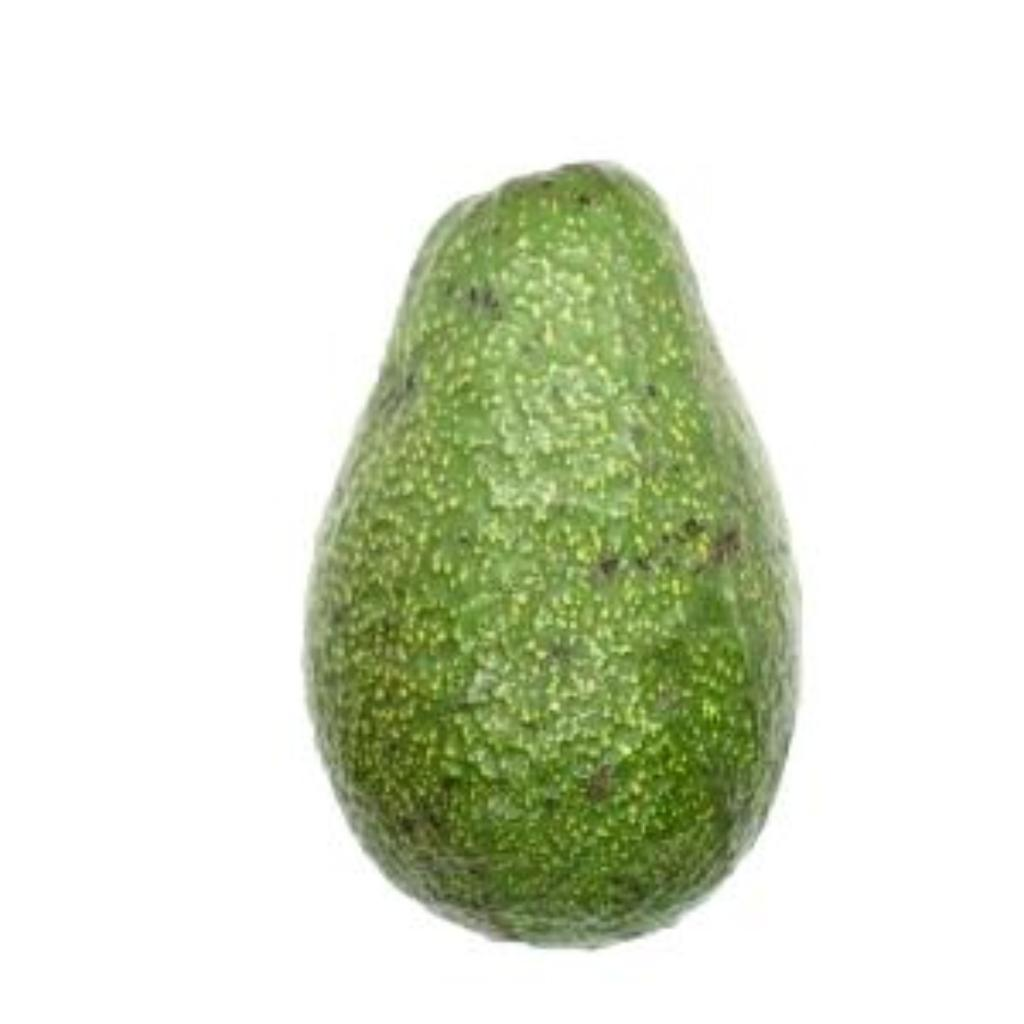cercospora_spot: (295, 126, 827, 962)
